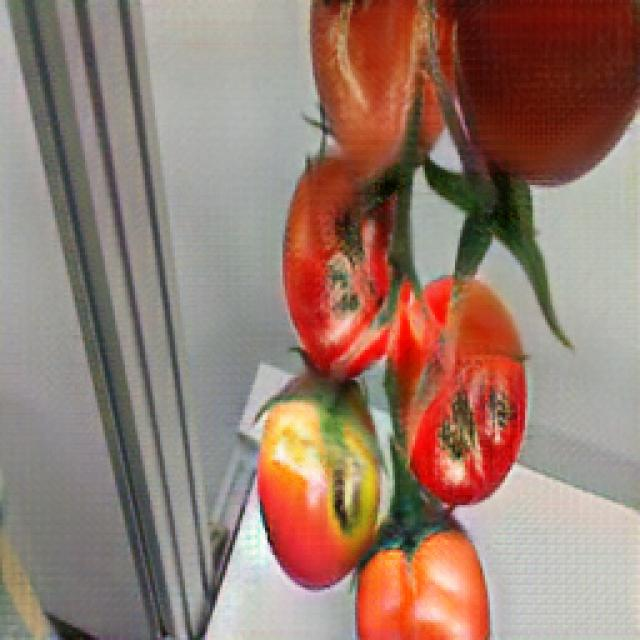overripe tomato: (387, 278, 527, 510), (286, 163, 408, 376), (250, 385, 376, 579)
